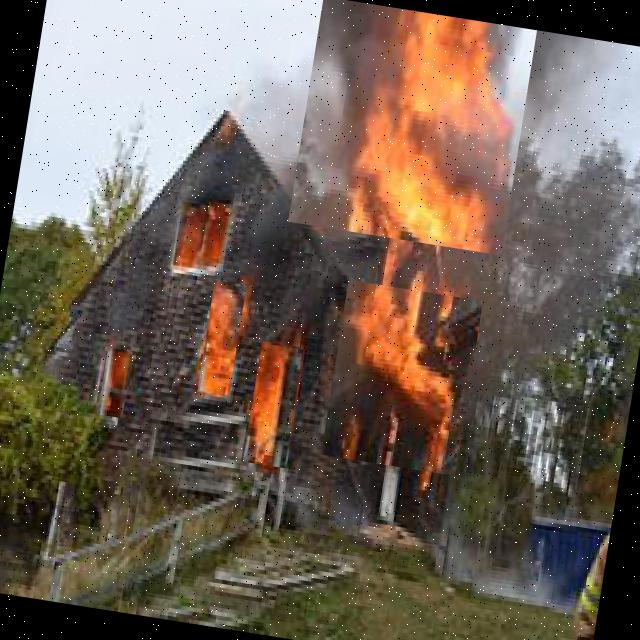fire: (288, 0, 537, 255), (321, 280, 483, 476), (242, 341, 304, 468), (198, 280, 246, 397), (168, 194, 226, 276), (98, 348, 132, 418), (254, 294, 260, 304)
